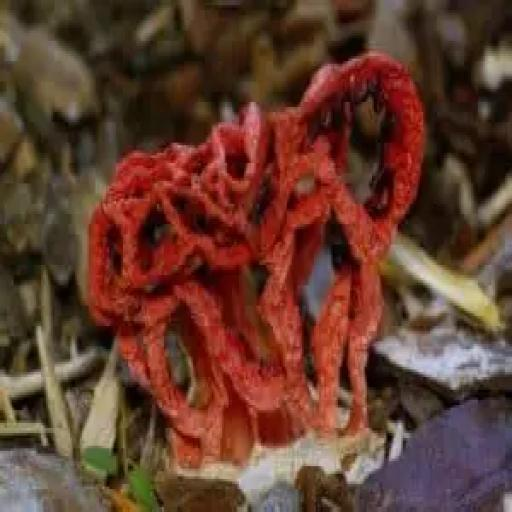Red Cage Fungus: (86, 53, 424, 489)
